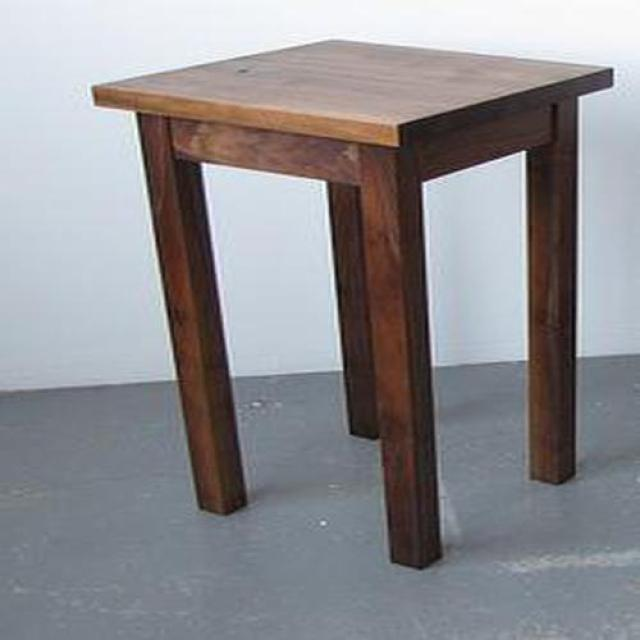table: (91, 38, 617, 572)
